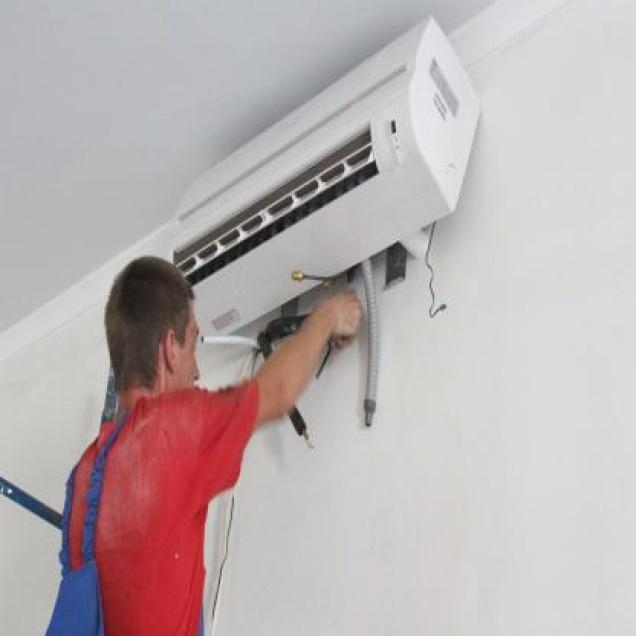AC: (163, 14, 482, 343)
